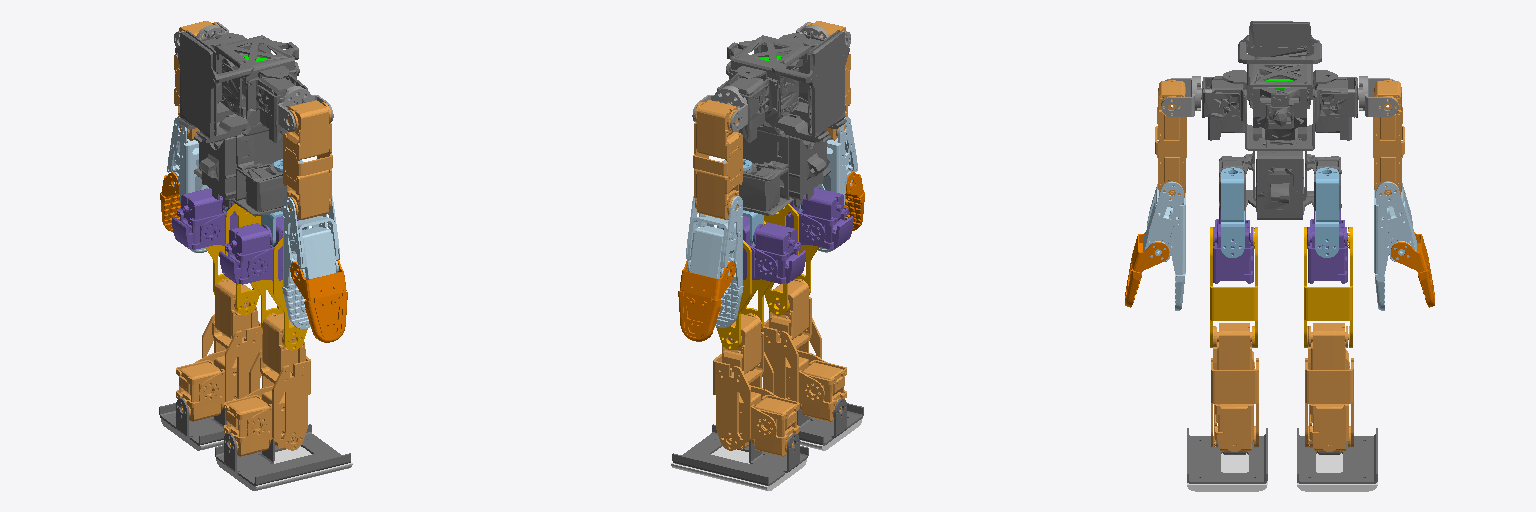
URDF robot description ([urdf]_v3.2.1_w_battery):
<?xml version="1.0" ?>
<robot name="[urdf]_v3.2.1_w_battery">
  <link name="base">
    <visual name="base_visual">
      <geometry name="base_geometry">
        <sphere radius="0.01"/>
      </geometry>
      <material name="base_material">
        <color rgba="1 0 0 1"/>
      </material>
      <origin xyz="0 0 0" rpy="0 0 1.5708"/>
    </visual>
    <inertial name="base_inertial">
      <mass value="0.001"/>
      <inertia ixx="0.000001" iyy="0.000001" izz="0.000001" ixy="0" ixz="0" iyz="0"/>
      <origin xyz="0 0 0" rpy="0 0 1.5708"/>
    </inertial>
  </link>
  <joint name="base_joint" type="fixed">
    <parent link="base"/>
    <child link="Hip_Upper_Bracket"/>
    <origin xyz="0 0 0" rpy="0 0 1.5708"/>
  </joint>
  <joint name="right_hip_yaw" type="revolute">
    <origin xyz="-0.043014 -0.012315 -0.016762" rpy="0 0 0"/>
    <parent link="Hip_Upper_Bracket"/>
    <child link="Upper_Servo_Hip_Bracket"/>
    <limit effort="8.7161304" velocity="8.9376201" lower="-1.570796" upper="1.570796"/>
    <axis xyz="0 0 1"/>
  </joint>
  <joint name="left_hip_yaw" type="revolute">
    <origin xyz="0.043070 -0.012315 -0.016762" rpy="0 0 0"/>
    <parent link="Hip_Upper_Bracket"/>
    <child link="Upper_Servo_Hip_Bracket_1"/>
    <limit effort="8.7161304" velocity="8.9376201" lower="-1.570796" upper="1.570796"/>
    <axis xyz="0 0 1"/>
  </joint>
  <joint name="frame_imu_site" type="fixed">
    <origin xyz="0.000028 -0.007747 0.110737" rpy="0.000772 0 -3.141593"/>
    <parent link="Hip_Upper_Bracket"/>
    <child link="imu"/>
  </joint>
  <joint name="left_shoulder_pitch" type="revolute">
    <origin xyz="0.065728 -0.004315 0.098638" rpy="-1.570796 0 1.570796"/>
    <parent link="Hip_Upper_Bracket"/>
    <child link="1910_0025_0816_REV1_1"/>
    <limit effort="8.7161304" velocity="8.9376201" lower="-1.570796" upper="3.141593"/>
    <axis xyz="0 0 1"/>
  </joint>
  <joint name="right_shoulder_pitch" type="revolute">
    <origin xyz="-0.065672 -0.004315 0.098638" rpy="1.570796 0 1.570796"/>
    <parent link="Hip_Upper_Bracket"/>
    <child link="1910_0025_0816_REV1"/>
    <limit effort="8.7161304" velocity="8.9376201" lower="-3.141593" upper="1.570796"/>
    <axis xyz="0 0 1"/>
  </joint>
  <joint name="right_hip_roll" type="revolute">
    <origin xyz="-0.000087 0.018650 -0.026665" rpy="1.570796 0 0"/>
    <parent link="Upper_Servo_Hip_Bracket"/>
    <child link="Right_Hip_Roll_STS3250"/>
    <limit effort="8.7161304" velocity="8.9376201" lower="-0.610865" upper="0.610865"/>
    <axis xyz="0 0 1"/>
  </joint>
  <joint name="left_hip_roll" type="revolute">
    <origin xyz="-0.000087 0.018650 -0.026665" rpy="1.570796 0 0"/>
    <parent link="Upper_Servo_Hip_Bracket_1"/>
    <child link="Left_Hip_Roll_STS3250"/>
    <limit effort="8.7161304" velocity="8.9376201" lower="-0.610865" upper="0.610865"/>
    <axis xyz="0 0 1"/>
  </joint>
  <joint name="left_shoulder_roll" type="revolute">
    <origin xyz="-0.018758 0.004100 -0.032700" rpy="3.141593 1.570796 0"/>
    <parent link="1910_0025_0816_REV1_1"/>
    <child link="Left_Shoulder_Roll_STS3250"/>
    <limit effort="8.7161304" velocity="8.9376201" lower="-0.349066" upper="3.316126"/>
    <axis xyz="0 0 1"/>
  </joint>
  <joint name="right_shoulder_roll" type="revolute">
    <origin xyz="-0.018892 -0.004100 -0.032700" rpy="3.141593 -1.570796 0"/>
    <parent link="1910_0025_0816_REV1"/>
    <child link="Right_Shoulder_Roll_STS3250"/>
    <limit effort="8.7161304" velocity="8.9376201" lower="-3.316126" upper="0.349066"/>
    <axis xyz="0 0 -1"/>
  </joint>
  <joint name="right_hip_pitch" type="revolute">
    <origin xyz="-0.018200 0 0.016450" rpy="0 1.570796 0"/>
    <parent link="Right_Hip_Roll_STS3250"/>
    <child link="Upper_Leg"/>
    <limit effort="8.7161304" velocity="8.9376201" lower="-2.234021" upper="0.872665"/>
    <axis xyz="0 0 1"/>
  </joint>
  <joint name="left_hip_pitch" type="revolute">
    <origin xyz="-0.018200 0 0.016450" rpy="0 1.570796 0"/>
    <parent link="Left_Hip_Roll_STS3250"/>
    <child link="Upper_Leg_1"/>
    <limit effort="8.7161304" velocity="8.9376201" lower="-2.234021" upper="0.872665"/>
    <axis xyz="0 0 1"/>
  </joint>
  <joint name="left_elbow_roll" type="revolute">
    <origin xyz="0 -0.086212 0" rpy="-3.141593 0 0"/>
    <parent link="Left_Shoulder_Roll_STS3250"/>
    <child link="Gripper_Static_1"/>
    <limit effort="5.466091" velocity="4.8557638" lower="-1.396263" upper="1.570796"/>
    <axis xyz="0 0 1"/>
  </joint>
  <joint name="right_elbow_roll" type="revolute">
    <origin xyz="0 0.086212 0" rpy="0 0 0"/>
    <parent link="Right_Shoulder_Roll_STS3250"/>
    <child link="Gripper_Static"/>
    <limit effort="5.466091" velocity="4.8557638" lower="-1.570796" upper="1.396263"/>
    <axis xyz="0 0 1"/>
  </joint>
  <joint name="right_knee_pitch" type="revolute">
    <origin xyz="0 -0.100000 0.001000" rpy="-3.141593 0 0"/>
    <parent link="Upper_Leg"/>
    <child link="Right_Knee_Pitch_STS3250"/>
    <limit effort="8.7161304" velocity="8.9376201" lower="-2.268928" upper="1.745329"/>
    <axis xyz="0 0 1"/>
  </joint>
  <joint name="left_knee_pitch" type="revolute">
    <origin xyz="0 -0.100000 0.001000" rpy="-3.141593 0 0"/>
    <parent link="Upper_Leg_1"/>
    <child link="Left_Knee_Pitch_STS3250"/>
    <limit effort="8.7161304" velocity="8.9376201" lower="-2.268928" upper="1.745329"/>
    <axis xyz="0 0 1"/>
  </joint>
  <joint name="left_gripper_roll" type="revolute">
    <origin xyz="0.012500 0.060000 -0.000260" rpy="0 0 0"/>
    <parent link="Gripper_Static_1"/>
    <child link="Gripper_Dynamic_1"/>
    <limit effort="5.466091" velocity="4.8557638" lower="-0.488692" upper="0.663225"/>
    <axis xyz="0 0 1"/>
  </joint>
  <joint name="right_gripper_roll" type="revolute">
    <origin xyz="-0.012500 0.060000 -0.000260" rpy="-3.141593 0 0"/>
    <parent link="Gripper_Static"/>
    <child link="Gripper_Dynamic"/>
    <limit effort="5.466091" velocity="4.8557638" lower="-0.663225" upper="0.488692"/>
    <axis xyz="0 0 -1"/>
  </joint>
  <joint name="right_ankle_pitch" type="revolute">
    <origin xyz="0 0.100000 -0.038724" rpy="-3.141593 0 0"/>
    <parent link="Right_Knee_Pitch_STS3250"/>
    <child link="Right_Ankle_Pitch_STS3250"/>
    <limit effort="8.7161304" velocity="8.9376201" lower="-1.570796" upper="0.610865"/>
    <axis xyz="0 0 1"/>
  </joint>
  <joint name="left_ankle_pitch" type="revolute">
    <origin xyz="0 0.100000 -0.038724" rpy="-3.141593 0 0"/>
    <parent link="Left_Knee_Pitch_STS3250"/>
    <child link="Left_Ankle_Pitch_STS3250"/>
    <limit effort="8.7161304" velocity="8.9376201" lower="-1.570796" upper="0.610865"/>
    <axis xyz="0 0 1"/>
  </joint>
  <joint name="right_ankle_roll" type="revolute">
    <origin xyz="0.053050 0 -0.019600" rpy="-3.141593 -1.570796 0"/>
    <parent link="Right_Ankle_Pitch_STS3250"/>
    <child link="Right_Foot_Bracket"/>
    <limit effort="8.7161304" velocity="8.9376201" lower="-0.523599" upper="0.523599"/>
    <axis xyz="0 0 1"/>
  </joint>
  <joint name="left_ankle_roll" type="revolute">
    <origin xyz="0.053050 0 -0.019400" rpy="-3.141593 -1.570796 0"/>
    <parent link="Left_Ankle_Pitch_STS3250"/>
    <child link="Left_Foot_Bracket"/>
    <limit effort="8.7161304" velocity="8.9376201" lower="-0.523599" upper="0.523599"/>
    <axis xyz="0 0 1"/>
  </joint>
  <joint name="Right_Foot_Mate" type="fixed">
    <origin xyz="0.018000 0.025630 -0.010575" rpy="1.570796 1.570796 0"/>
    <parent link="Right_Foot_Bracket"/>
    <child link="Right_Foot"/>
  </joint>
  <joint name="Left_Foot_Mate" type="fixed">
    <origin xyz="0.032000 0.025630 -0.010575" rpy="1.570796 1.570796 0"/>
    <parent link="Left_Foot_Bracket"/>
    <child link="Left_Foot"/>
  </joint>
  <link name="Hip_Upper_Bracket">
    <visual name="Hip_Upper_Bracket_visual">
      <origin xyz="0 0 0" rpy="0 0 0"/>
      <geometry name="Hip_Upper_Bracket_geometry">
        <mesh filename="meshes/Hip_Upper_Bracket.stl"/>
      </geometry>
      <material name="Hip_Upper_Bracket_material">
        <color rgba="0.498039 0.498039 0.498039 1"/>
      </material>
    </visual>
    <inertial name="Hip_Upper_Bracket_inertial">
      <mass value="0.947439"/>
      <inertia ixx="0.002272" iyy="0.002828" izz="0.001521" ixy="0" ixz="-0.000002" iyz="-0.000119"/>
      <origin xyz="0.000064 0.001815 0.046968" rpy="0 0 0"/>
    </inertial>
  </link>
  <link name="Upper_Servo_Hip_Bracket">
    <visual name="Upper_Servo_Hip_Bracket_visual">
      <origin xyz="0 0 0" rpy="0 0 0"/>
      <geometry name="Upper_Servo_Hip_Bracket_geometry">
        <mesh filename="meshes/Upper_Servo_Hip_Bracket.stl"/>
      </geometry>
      <material name="Upper_Servo_Hip_Bracket_material">
        <color rgba="0.615686 0.811765 0.929412 1"/>
      </material>
    </visual>
    <inertial name="Upper_Servo_Hip_Bracket_inertial">
      <mass value="0.024375"/>
      <inertia ixx="0.000016" iyy="0.000013" izz="0.000006" ixy="0" ixz="0" iyz="0.000002"/>
      <origin xyz="-0.000048 -0.005548 0.001454" rpy="0 0 0"/>
    </inertial>
  </link>
  <link name="Upper_Servo_Hip_Bracket_1">
    <visual name="Upper_Servo_Hip_Bracket_1_visual">
      <origin xyz="0 0 0" rpy="0 0 0"/>
      <geometry name="Upper_Servo_Hip_Bracket_1_geometry">
        <mesh filename="meshes/Upper_Servo_Hip_Bracket_1.stl"/>
      </geometry>
      <material name="Upper_Servo_Hip_Bracket_1_material">
        <color rgba="0.615686 0.811765 0.929412 1"/>
      </material>
    </visual>
    <inertial name="Upper_Servo_Hip_Bracket_1_inertial">
      <mass value="0.024375"/>
      <inertia ixx="0.000016" iyy="0.000013" izz="0.000006" ixy="0" ixz="0" iyz="0.000002"/>
      <origin xyz="-0.000048 -0.005548 0.001454" rpy="0 0 0"/>
    </inertial>
  </link>
  <link name="imu">
    <visual name="imu_visual">
      <origin xyz="0 0 0" rpy="0 0 0"/>
      <geometry name="imu_geometry">
        <mesh filename="meshes/imu.stl"/>
      </geometry>
      <material name="imu_material">
        <color rgba="0 1 0 1"/>
      </material>
    </visual>
    <inertial name="imu_inertial">
      <mass value="0.002752"/>
      <inertia ixx="0.000001" iyy="0.000001" izz="0.000001" ixy="0" ixz="0" iyz="0"/>
      <origin xyz="0 0 -0.000465" rpy="0 0 0"/>
    </inertial>
  </link>
  <link name="1910_0025_0816_REV1_1">
    <visual name="1910_0025_0816_REV1_1_visual">
      <origin xyz="0 0 0" rpy="0 0 0"/>
      <geometry name="1910_0025_0816_REV1_1_geometry">
        <mesh filename="meshes/1910_0025_0816_REV1_1.stl"/>
      </geometry>
      <material name="1910_0025_0816_REV1_1_material">
        <color rgba="0.647059 0.647059 0.647059 1"/>
      </material>
    </visual>
    <inertial name="1910_0025_0816_REV1_1_inertial">
      <mass value="0.018130"/>
      <inertia ixx="0.000003" iyy="0.000005" izz="0.000004" ixy="0" ixz="0" iyz="0"/>
      <origin xyz="0.000032 0.001430 -0.013973" rpy="0 0 0"/>
    </inertial>
  </link>
  <link name="1910_0025_0816_REV1">
    <visual name="1910_0025_0816_REV1_visual">
      <origin xyz="0 0 0" rpy="0 0 0"/>
      <geometry name="1910_0025_0816_REV1_geometry">
        <mesh filename="meshes/1910_0025_0816_REV1.stl"/>
      </geometry>
      <material name="1910_0025_0816_REV1_material">
        <color rgba="0.647059 0.647059 0.647059 1"/>
      </material>
    </visual>
    <inertial name="1910_0025_0816_REV1_inertial">
      <mass value="0.018130"/>
      <inertia ixx="0.000003" iyy="0.000005" izz="0.000004" ixy="0" ixz="0" iyz="0"/>
      <origin xyz="-0.000032 -0.001430 -0.013973" rpy="0 0 0"/>
    </inertial>
  </link>
  <link name="Right_Hip_Roll_STS3250">
    <visual name="Right_Hip_Roll_STS3250_visual">
      <origin xyz="0 0 0" rpy="0 0 0"/>
      <geometry name="Right_Hip_Roll_STS3250_geometry">
        <mesh filename="meshes/Right_Hip_Roll_STS3250.stl"/>
      </geometry>
      <material name="Right_Hip_Roll_STS3250_material">
        <color rgba="0.513725 0.415686 0.733333 1"/>
      </material>
    </visual>
    <inertial name="Right_Hip_Roll_STS3250_inertial">
      <mass value="0.187737"/>
      <inertia ixx="0.000116" iyy="0.000101" izz="0.000065" ixy="0" ixz="0.000001" iyz="-0.000002"/>
      <origin xyz="-0.000391 -0.013509 -0.000227" rpy="0 0 0"/>
    </inertial>
  </link>
  <link name="Left_Hip_Roll_STS3250">
    <visual name="Left_Hip_Roll_STS3250_visual">
      <origin xyz="0 0 0" rpy="0 0 0"/>
      <geometry name="Left_Hip_Roll_STS3250_geometry">
        <mesh filename="meshes/Left_Hip_Roll_STS3250.stl"/>
      </geometry>
      <material name="Left_Hip_Roll_STS3250_material">
        <color rgba="0.513725 0.415686 0.733333 1"/>
      </material>
    </visual>
    <inertial name="Left_Hip_Roll_STS3250_inertial">
      <mass value="0.187737"/>
      <inertia ixx="0.000116" iyy="0.000101" izz="0.000065" ixy="0" ixz="0.000001" iyz="-0.000002"/>
      <origin xyz="-0.000376 -0.013509 -0.000227" rpy="0 0 0"/>
    </inertial>
  </link>
  <link name="Left_Shoulder_Roll_STS3250">
    <visual name="Left_Shoulder_Roll_STS3250_visual">
      <origin xyz="0 0 0" rpy="0 0 0"/>
      <geometry name="Left_Shoulder_Roll_STS3250_geometry">
        <mesh filename="meshes/Left_Shoulder_Roll_STS3250.stl"/>
      </geometry>
      <material name="Left_Shoulder_Roll_STS3250_material">
        <color rgba="0.913725 0.647059 0.329412 1"/>
      </material>
    </visual>
    <inertial name="Left_Shoulder_Roll_STS3250_inertial">
      <mass value="0.151717"/>
      <inertia ixx="0.000188" iyy="0.000034" izz="0.000175" ixy="0" ixz="0" iyz="0"/>
      <origin xyz="0.000214 -0.038685 -0.017251" rpy="0 0 0"/>
    </inertial>
  </link>
  <link name="Right_Shoulder_Roll_STS3250">
    <visual name="Right_Shoulder_Roll_STS3250_visual">
      <origin xyz="0 0 0" rpy="0 0 0"/>
      <geometry name="Right_Shoulder_Roll_STS3250_geometry">
        <mesh filename="meshes/Right_Shoulder_Roll_STS3250.stl"/>
      </geometry>
      <material name="Right_Shoulder_Roll_STS3250_material">
        <color rgba="0.913725 0.647059 0.329412 1"/>
      </material>
    </visual>
    <inertial name="Right_Shoulder_Roll_STS3250_inertial">
      <mass value="0.151717"/>
      <inertia ixx="0.000188" iyy="0.000034" izz="0.000175" ixy="0" ixz="0" iyz="0"/>
      <origin xyz="-0.000210 0.038685 0.017251" rpy="0 0 0"/>
    </inertial>
  </link>
  <link name="Upper_Leg">
    <visual name="Upper_Leg_visual">
      <origin xyz="0 0 0" rpy="0 0 0"/>
      <geometry name="Upper_Leg_geometry">
        <mesh filename="meshes/Upper_Leg.stl"/>
      </geometry>
      <material name="Upper_Leg_material">
        <color rgba="0.980392 0.713725 0.003922 1"/>
      </material>
    </visual>
    <inertial name="Upper_Leg_inertial">
      <mass value="0.048593"/>
      <inertia ixx="0.000061" iyy="0.000028" izz="0.000049" ixy="-0.000003" ixz="0" iyz="0"/>
      <origin xyz="-0.003366 -0.049105 0.019668" rpy="0 0 0"/>
    </inertial>
  </link>
  <link name="Upper_Leg_1">
    <visual name="Upper_Leg_1_visual">
      <origin xyz="0 0 0" rpy="0 0 0"/>
      <geometry name="Upper_Leg_1_geometry">
        <mesh filename="meshes/Upper_Leg_1.stl"/>
      </geometry>
      <material name="Upper_Leg_1_material">
        <color rgba="0.980392 0.713725 0.003922 1"/>
      </material>
    </visual>
    <inertial name="Upper_Leg_1_inertial">
      <mass value="0.048593"/>
      <inertia ixx="0.000061" iyy="0.000028" izz="0.000049" ixy="-0.000003" ixz="0" iyz="0"/>
      <origin xyz="-0.003366 -0.049105 0.019668" rpy="0 0 0"/>
    </inertial>
  </link>
  <link name="Gripper_Static_1">
    <visual name="Gripper_Static_1_visual">
      <origin xyz="0 0 0" rpy="0 0 0"/>
      <geometry name="Gripper_Static_1_geometry">
        <mesh filename="meshes/Gripper_Static_1.stl"/>
      </geometry>
      <material name="Gripper_Static_1_material">
        <color rgba="0.768627 0.886275 0.952941 1"/>
      </material>
    </visual>
    <inertial name="Gripper_Static_1_inertial">
      <mass value="0.106517"/>
      <inertia ixx="0.000092" iyy="0.000030" izz="0.000086" ixy="0.000007" ixz="0" iyz="0"/>
      <origin xyz="0.003807 0.052618 0.017678" rpy="0 0 0"/>
    </inertial>
  </link>
  <link name="Gripper_Static">
    <visual name="Gripper_Static_visual">
      <origin xyz="0 0 0" rpy="0 0 0"/>
      <geometry name="Gripper_Static_geometry">
        <mesh filename="meshes/Gripper_Static.stl"/>
      </geometry>
      <material name="Gripper_Static_material">
        <color rgba="0.768627 0.886275 0.952941 1"/>
      </material>
    </visual>
    <inertial name="Gripper_Static_inertial">
      <mass value="0.106517"/>
      <inertia ixx="0.000092" iyy="0.000031" izz="0.000086" ixy="-0.000007" ixz="0" iyz="0"/>
      <origin xyz="-0.003821 0.052614 0.017678" rpy="0 0 0"/>
    </inertial>
  </link>
  <link name="Right_Knee_Pitch_STS3250">
    <visual name="Right_Knee_Pitch_STS3250_visual">
      <origin xyz="0 0 0" rpy="0 0 0"/>
      <geometry name="Right_Knee_Pitch_STS3250_geometry">
        <mesh filename="meshes/Right_Knee_Pitch_STS3250.stl"/>
      </geometry>
      <material name="Right_Knee_Pitch_STS3250_material">
        <color rgba="0.913725 0.647059 0.329412 1"/>
      </material>
    </visual>
    <inertial name="Right_Knee_Pitch_STS3250_inertial">
      <mass value="0.132026"/>
      <inertia ixx="0.000126" iyy="0.000041" izz="0.000110" ixy="0" ixz="0" iyz="0.000002"/>
      <origin xyz="-0.001016 0.028277 -0.017664" rpy="0 0 0"/>
    </inertial>
  </link>
  <link name="Left_Knee_Pitch_STS3250">
    <visual name="Left_Knee_Pitch_STS3250_visual">
      <origin xyz="0 0 0" rpy="0 0 0"/>
      <geometry name="Left_Knee_Pitch_STS3250_geometry">
        <mesh filename="meshes/Left_Knee_Pitch_STS3250.stl"/>
      </geometry>
      <material name="Left_Knee_Pitch_STS3250_material">
        <color rgba="0.913725 0.647059 0.329412 1"/>
      </material>
    </visual>
    <inertial name="Left_Knee_Pitch_STS3250_inertial">
      <mass value="0.132026"/>
      <inertia ixx="0.000126" iyy="0.000041" izz="0.000110" ixy="0" ixz="0" iyz="0.000002"/>
      <origin xyz="-0.001016 0.028277 -0.017664" rpy="0 0 0"/>
    </inertial>
  </link>
  <link name="Gripper_Dynamic_1">
    <visual name="Gripper_Dynamic_1_visual">
      <origin xyz="0 0 0" rpy="0 0 0"/>
      <geometry name="Gripper_Dynamic_1_geometry">
        <mesh filename="meshes/Gripper_Dynamic_1.stl"/>
      </geometry>
      <material name="Gripper_Dynamic_1_material">
        <color rgba="0.972549 0.529412 0.003922 1"/>
      </material>
    </visual>
    <inertial name="Gripper_Dynamic_1_inertial">
      <mass value="0.025433"/>
      <inertia ixx="0.000011" iyy="0.000005" izz="0.000009" ixy="-0.000001" ixz="0" iyz="0"/>
      <origin xyz="0.018952 0.024682 0.018814" rpy="0 0 0"/>
    </inertial>
  </link>
  <link name="Gripper_Dynamic">
    <visual name="Gripper_Dynamic_visual">
      <origin xyz="0 0 0" rpy="0 0 0"/>
      <geometry name="Gripper_Dynamic_geometry">
        <mesh filename="meshes/Gripper_Dynamic.stl"/>
      </geometry>
      <material name="Gripper_Dynamic_material">
        <color rgba="0.972549 0.529412 0.003922 1"/>
      </material>
    </visual>
    <inertial name="Gripper_Dynamic_inertial">
      <mass value="0.025433"/>
      <inertia ixx="0.000011" iyy="0.000005" izz="0.000009" ixy="-0.000001" ixz="0" iyz="0"/>
      <origin xyz="-0.018952 -0.024682 -0.018814" rpy="0 0 0"/>
    </inertial>
  </link>
  <link name="Right_Ankle_Pitch_STS3250">
    <visual name="Right_Ankle_Pitch_STS3250_visual">
      <origin xyz="0 0 0" rpy="0 0 0"/>
      <geometry name="Right_Ankle_Pitch_STS3250_geometry">
        <mesh filename="meshes/Right_Ankle_Pitch_STS3250.stl"/>
      </geometry>
      <material name="Right_Ankle_Pitch_STS3250_material">
        <color rgba="0.913725 0.647059 0.329412 1"/>
      </material>
    </visual>
    <inertial name="Right_Ankle_Pitch_STS3250_inertial">
      <mass value="0.186777"/>
      <inertia ixx="0.000066" iyy="0.000101" izz="0.000115" ixy="0" ixz="0.000003" iyz="0"/>
      <origin xyz="0.016567 0.013062 -0.018658" rpy="0 0 0"/>
    </inertial>
  </link>
  <link name="Left_Ankle_Pitch_STS3250">
    <visual name="Left_Ankle_Pitch_STS3250_visual">
      <origin xyz="0 0 0" rpy="0 0 0"/>
      <geometry name="Left_Ankle_Pitch_STS3250_geometry">
        <mesh filename="meshes/Left_Ankle_Pitch_STS3250.stl"/>
      </geometry>
      <material name="Left_Ankle_Pitch_STS3250_material">
        <color rgba="0.913725 0.647059 0.329412 1"/>
      </material>
    </visual>
    <inertial name="Left_Ankle_Pitch_STS3250_inertial">
      <mass value="0.186777"/>
      <inertia ixx="0.000065" iyy="0.000100" izz="0.000115" ixy="0" ixz="0.000003" iyz="0"/>
      <origin xyz="0.016567 0.013062 -0.018493" rpy="0 0 0"/>
    </inertial>
  </link>
  <link name="Right_Foot_Bracket">
    <visual name="Right_Foot_Bracket_visual">
      <origin xyz="0 0 0" rpy="0 0 0"/>
      <geometry name="Right_Foot_Bracket_geometry">
        <mesh filename="meshes/Right_Foot_Bracket.stl"/>
      </geometry>
      <material name="Right_Foot_Bracket_material">
        <color rgba="0.498039 0.498039 0.498039 1"/>
      </material>
    </visual>
    <inertial name="Right_Foot_Bracket_inertial">
      <mass value="0.047410"/>
      <inertia ixx="0.000047" iyy="0.000073" izz="0.000030" ixy="0" ixz="-0.000002" iyz="0.000002"/>
      <origin xyz="-0.006961 0.021778 -0.045037" rpy="0 0 0"/>
    </inertial>
  </link>
  <link name="Left_Foot_Bracket">
    <visual name="Left_Foot_Bracket_visual">
      <origin xyz="0 0 0" rpy="0 0 0"/>
      <geometry name="Left_Foot_Bracket_geometry">
        <mesh filename="meshes/Left_Foot_Bracket.stl"/>
      </geometry>
      <material name="Left_Foot_Bracket_material">
        <color rgba="0.498039 0.498039 0.498039 1"/>
      </material>
    </visual>
    <inertial name="Left_Foot_Bracket_inertial">
      <mass value="0.047410"/>
      <inertia ixx="0.000047" iyy="0.000073" izz="0.000030" ixy="0" ixz="0.000002" iyz="0.000002"/>
      <origin xyz="0.006961 0.021778 -0.045037" rpy="0 0 0"/>
    </inertial>
  </link>
  <link name="Right_Foot">
    <visual name="Right_Foot_visual">
      <origin xyz="0 0 0" rpy="0 0 0"/>
      <geometry name="Right_Foot_geometry">
        <mesh filename="meshes/Right_Foot.stl"/>
      </geometry>
      <material name="Right_Foot_material">
        <color rgba="0.917647 0.917647 0.917647 1"/>
      </material>
    </visual>
    <collision name="Right_Foot.collision">
      <origin xyz="0 0 0" rpy="0 0 0"/>
      <geometry name="Right_Foot_collision_geometry">
        <mesh filename="meshes/Right_Foot.collision.stl"/>
      </geometry>
    </collision>
    <inertial name="Right_Foot_inertial">
      <mass value="0.065576"/>
      <inertia ixx="0.000027" iyy="0.000055" izz="0.000081" ixy="0" ixz="0" iyz="0"/>
      <origin xyz="0.040732 -0.025000 -0.003390" rpy="0 0 0"/>
    </inertial>
  </link>
  <link name="Left_Foot">
    <visual name="Left_Foot_visual">
      <origin xyz="0 0 0" rpy="0 0 0"/>
      <geometry name="Left_Foot_geometry">
        <mesh filename="meshes/Left_Foot.stl"/>
      </geometry>
      <material name="Left_Foot_material">
        <color rgba="0.917647 0.917647 0.917647 1"/>
      </material>
    </visual>
    <collision name="Left_Foot.collision">
      <origin xyz="0 0 0" rpy="0 0 0"/>
      <geometry name="Left_Foot_collision_geometry">
        <mesh filename="meshes/Left_Foot.collision.stl"/>
      </geometry>
    </collision>
    <inertial name="Left_Foot_inertial">
      <mass value="0.065576"/>
      <inertia ixx="0.000027" iyy="0.000055" izz="0.000081" ixy="0" ixz="0" iyz="0"/>
      <origin xyz="0.040732 -0.025000 -0.003390" rpy="0 0 0"/>
    </inertial>
  </link>
</robot>

--- Facts derived from the render (not from the file) ---
3 views of the same robot in one strip: view 1: azimuth 30°, elevation 25°; view 2: azimuth 150°, elevation 25°; view 3: azimuth 270°, elevation 25° (orthographic).
Robot: [urdf]_v3.2.1_w_battery — 25 links, 24 joints (20 revolute, 4 fixed); root link base; default pose: all joints at 0.
Visible links, largest first — view 1: Hip_Upper_Bracket, Right_Shoulder_Roll_STS3250, Right_Knee_Pitch_STS3250, Gripper_Static, Left_Knee_Pitch_STS3250, Right_Foot_Bracket, Right_Hip_Roll_STS3250, Right_Ankle_Pitch_STS3250, Left_Ankle_Pitch_STS3250, Gripper_Dynamic, Left_Hip_Roll_STS3250, Gripper_Static_1 (+7 smaller); view 2: Hip_Upper_Bracket, Left_Shoulder_Roll_STS3250, Left_Knee_Pitch_STS3250, Gripper_Static_1, Right_Knee_Pitch_STS3250, Left_Foot_Bracket, Left_Hip_Roll_STS3250, Left_Ankle_Pitch_STS3250, Right_Ankle_Pitch_STS3250, Gripper_Dynamic_1, Right_Hip_Roll_STS3250, Gripper_Static (+7 smaller); view 3: Hip_Upper_Bracket, Left_Knee_Pitch_STS3250, Right_Knee_Pitch_STS3250, Gripper_Static_1, Gripper_Static, Right_Foot_Bracket, Left_Foot_Bracket, Right_Shoulder_Roll_STS3250, Left_Shoulder_Roll_STS3250, Upper_Leg_1, Upper_Leg, Upper_Servo_Hip_Bracket (+11 smaller).
Link boxes in pixels (left/top/right/bottom): Hip_Upper_Bracket: left=175, top=30, right=307, bottom=216; Right_Shoulder_Roll_STS3250: left=283, top=100, right=332, bottom=219; Right_Knee_Pitch_STS3250: left=249, top=313, right=310, bottom=450; Gripper_Static: left=282, top=196, right=339, bottom=328; Left_Knee_Pitch_STS3250: left=202, top=279, right=262, bottom=401; Right_Foot_Bracket: left=215, top=424, right=350, bottom=485; Right_Hip_Roll_STS3250: left=219, top=216, right=302, bottom=284; Right_Ankle_Pitch_STS3250: left=224, top=385, right=300, bottom=456; Left_Ankle_Pitch_STS3250: left=176, top=350, right=236, bottom=421; Gripper_Dynamic: left=290, top=260, right=347, bottom=342; Left_Hip_Roll_STS3250: left=172, top=188, right=246, bottom=249; Gripper_Static_1: left=167, top=117, right=208, bottom=252; Hip_Upper_Bracket: left=717, top=30, right=849, bottom=215; Left_Shoulder_Roll_STS3250: left=693, top=100, right=742, bottom=219; Left_Knee_Pitch_STS3250: left=713, top=314, right=773, bottom=450; Gripper_Static_1: left=686, top=196, right=743, bottom=327; Right_Knee_Pitch_STS3250: left=761, top=279, right=821, bottom=401; Left_Foot_Bracket: left=672, top=424, right=808, bottom=485; Left_Hip_Roll_STS3250: left=722, top=215, right=805, bottom=283; Left_Ankle_Pitch_STS3250: left=723, top=385, right=799, bottom=456; Right_Ankle_Pitch_STS3250: left=786, top=350, right=846, bottom=421; Gripper_Dynamic_1: left=678, top=259, right=735, bottom=341; Right_Hip_Roll_STS3250: left=786, top=188, right=853, bottom=249; Gripper_Static: left=815, top=117, right=857, bottom=252; Hip_Upper_Bracket: left=1202, top=21, right=1357, bottom=219; Left_Knee_Pitch_STS3250: left=1305, top=323, right=1353, bottom=447; Right_Knee_Pitch_STS3250: left=1211, top=323, right=1258, bottom=447; Gripper_Static_1: left=1374, top=182, right=1416, bottom=310; Gripper_Static: left=1143, top=182, right=1185, bottom=310; Right_Foot_Bracket: left=1187, top=428, right=1267, bottom=483; Left_Foot_Bracket: left=1297, top=428, right=1377, bottom=483; Right_Shoulder_Roll_STS3250: left=1155, top=80, right=1186, bottom=199; Left_Shoulder_Roll_STS3250: left=1373, top=80, right=1404, bottom=199; Upper_Leg_1: left=1304, top=227, right=1352, bottom=347; Upper_Leg: left=1210, top=227, right=1257, bottom=347; Upper_Servo_Hip_Bracket: left=1221, top=167, right=1244, bottom=257.
Bounding box of the posed robot: 0.1189 × 0.2833 × 0.4199 m (x, y, z).
24 mesh visuals loaded from 24 distinct referenced files (24 binary STL).
